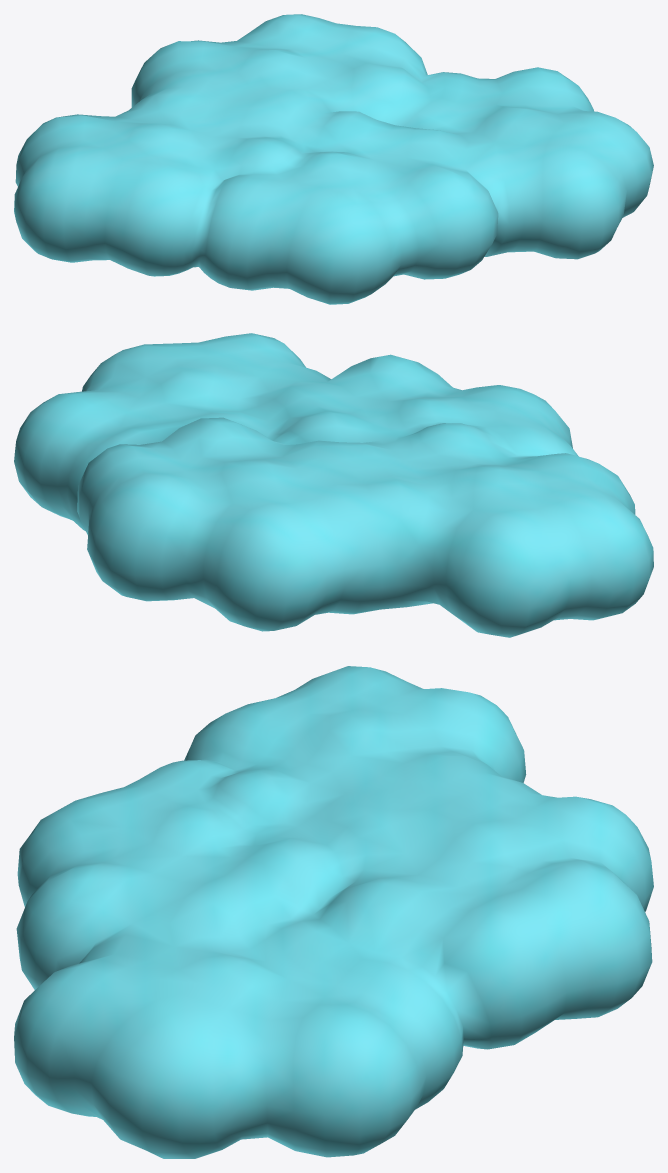
File: CloudBig.fbx
The picture shows the model from 3 angles, top to bottom: view 1: azimuth 30°, elevation 25°; view 2: azimuth 150°, elevation 25°; view 3: azimuth 270°, elevation 25°; orthographic projection. The views are drawn at different scales.
Visible parts, largest first — view 1: Retopo_Icosphere.005; view 2: Retopo_Icosphere.005; view 3: Retopo_Icosphere.005.
Part boxes in pixels (x1,y1,x2,y2): Retopo_Icosphere.005: (14, 14, 653, 304); Retopo_Icosphere.005: (14, 333, 653, 637); Retopo_Icosphere.005: (14, 666, 653, 1158).
Size of the model in its own units: 480 by 112 by 350.
